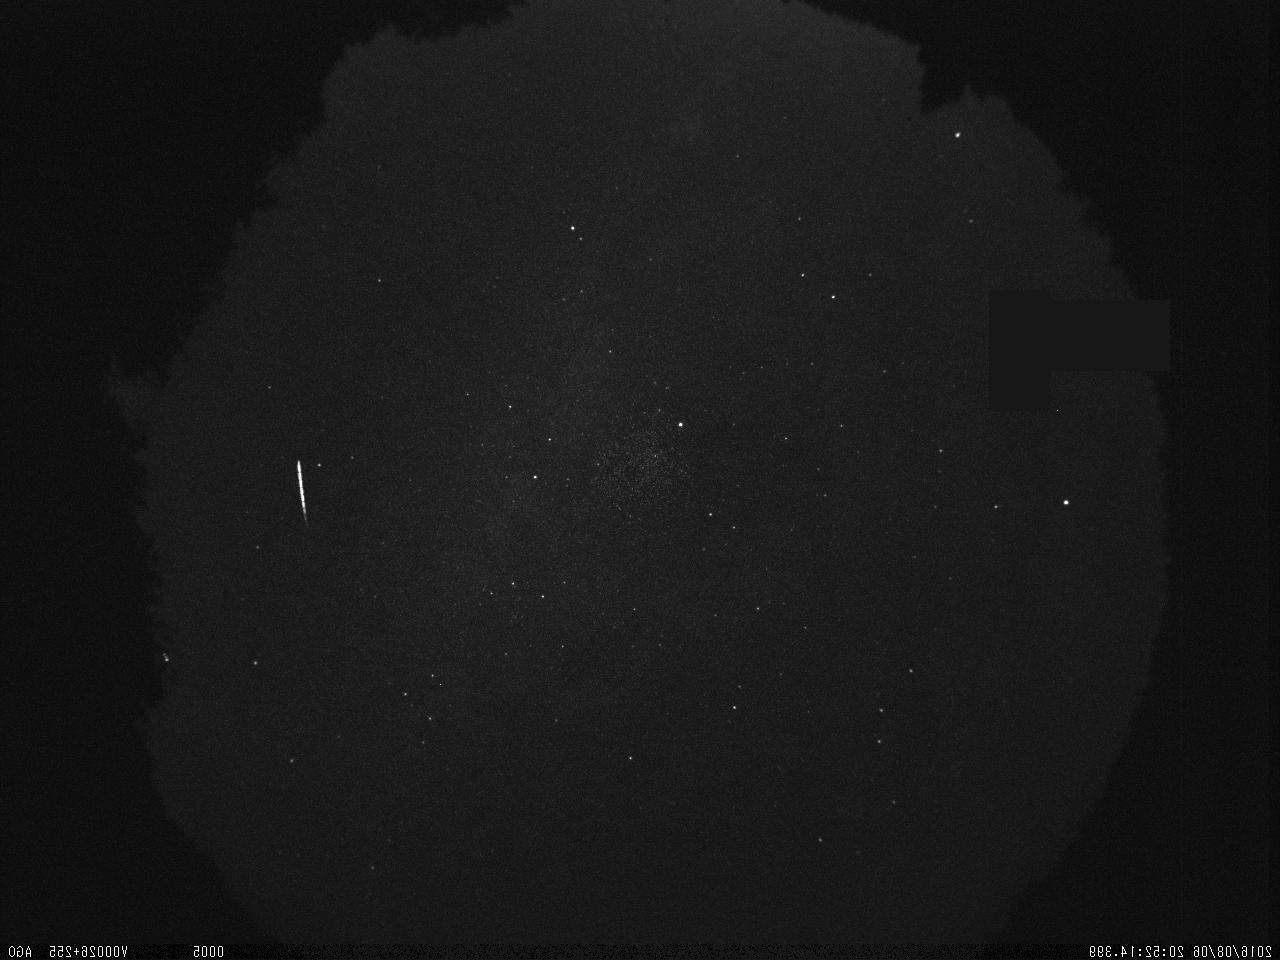meteor: (256, 436, 338, 536)
